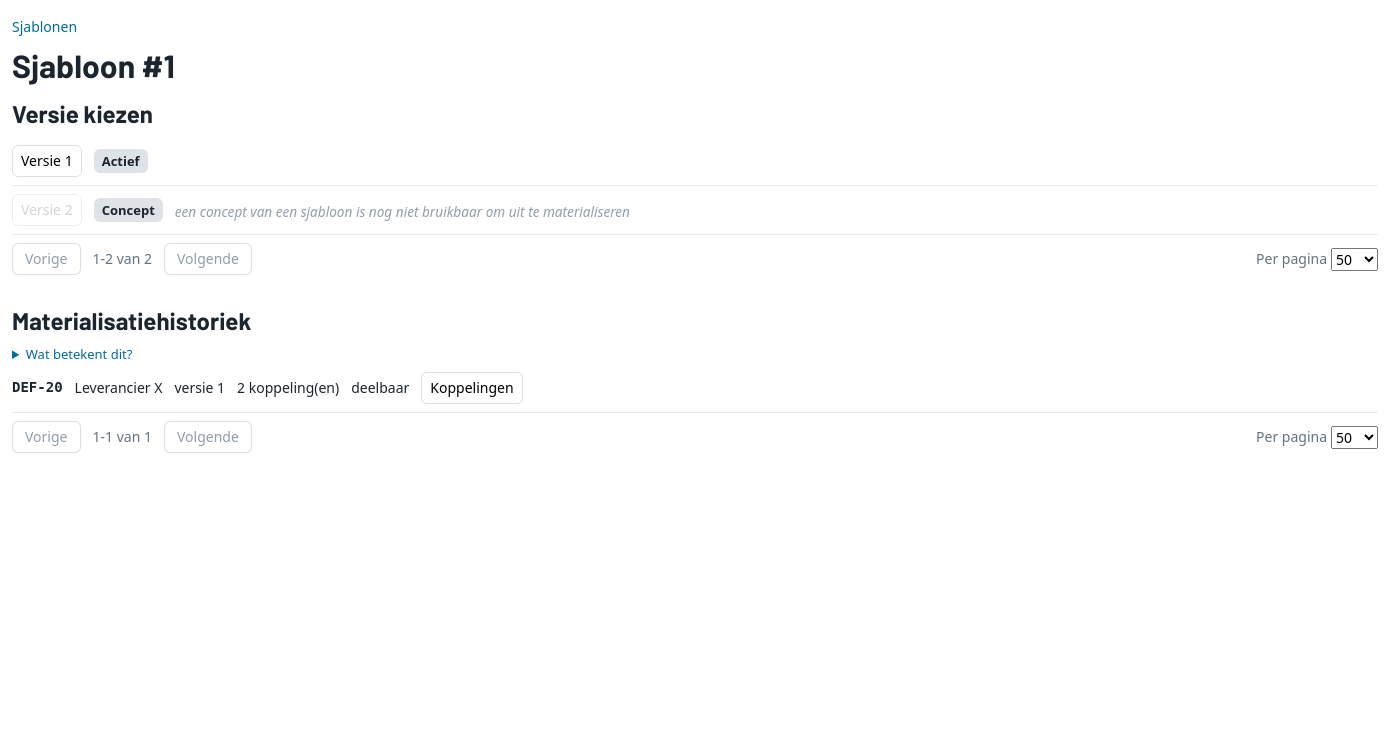
Test: TemplateListPage / TemplateDetailPage (S1-F2) › S1-F2.3: revisie kiezen laadt de bookmarkset, DRAFT is uitgeschakeld met reden, problems getoond
The width and height of the screenshot is (1390, 739).
Check: the button "Versie 2" is disabled, box [12, 194, 82, 226]
Check: the text "een concept van een sjabloon is nog niet bruikbaar om uit te materialiseren" is shown, box [175, 201, 630, 223]
Click the button "Versie 1" at (47, 161), box [12, 145, 82, 177]
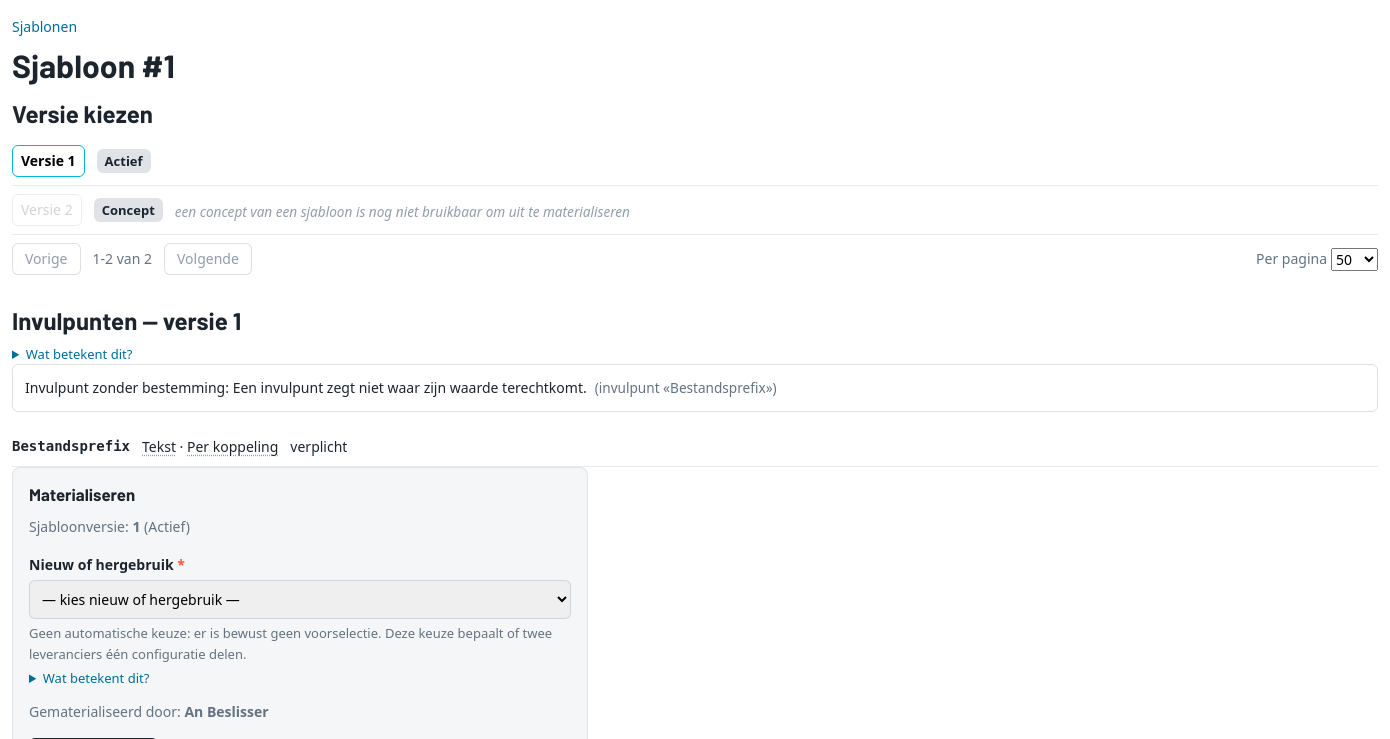
Check: the message with test id "bookmark-problems" shows "Invulpunt zonder bestemming", box [25, 378, 225, 397]
